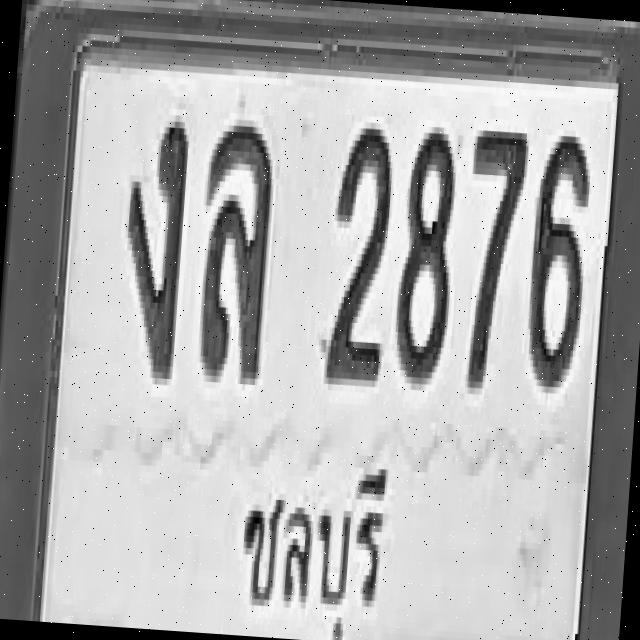16NgorNgu: (116, 112, 190, 379)
2: (322, 120, 396, 387)
45LorLing: (194, 118, 278, 378)
6: (524, 128, 593, 388)
7: (456, 123, 528, 390)
8: (390, 125, 460, 385)
Chonburi: (222, 439, 404, 640)
